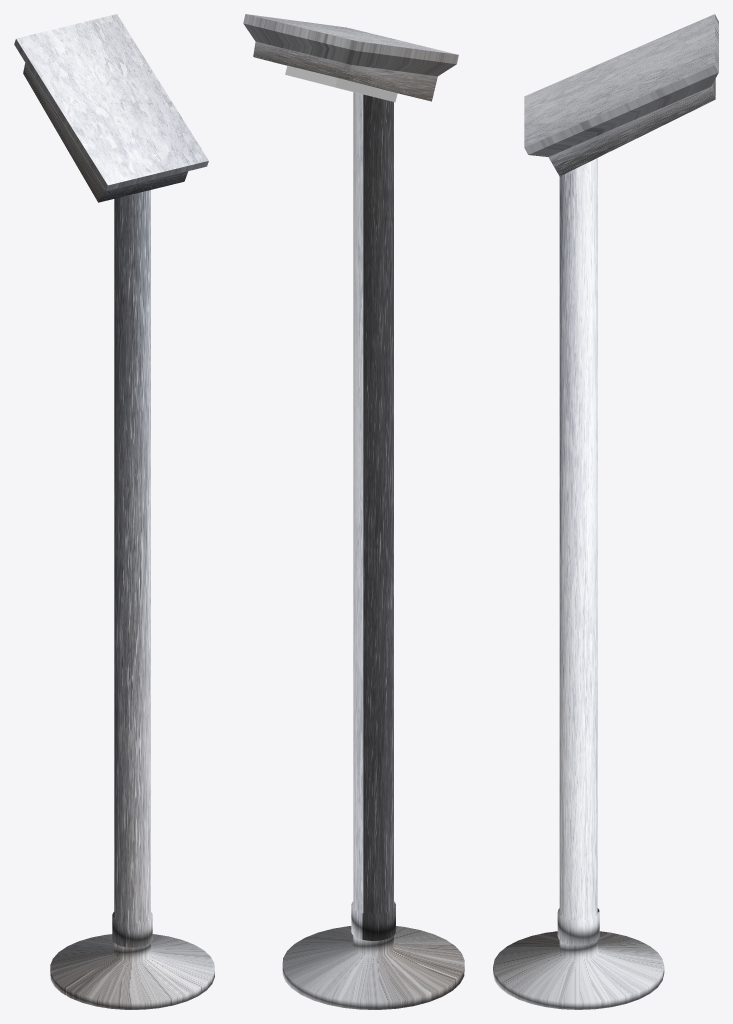
File: Streetlamp1.fbx
3 renders of one model, left to right at view 1: azimuth 30°, elevation 25°; view 2: azimuth 150°, elevation 25°; view 3: azimuth 270°, elevation 25°, orthographic. The views are drawn at different scales.
Parts seen in each view (by area): view 1: Streetlamp1; view 2: Streetlamp1; view 3: Streetlamp1.
Part boxes in pixels (<box>): Streetlamp1: <box>14,14,214,1009</box>; Streetlamp1: <box>243,14,464,1009</box>; Streetlamp1: <box>493,14,718,1009</box>.
Bounding box in the file's own units: 92.7 × 559 × 122.
2 materials, 1 textured.
